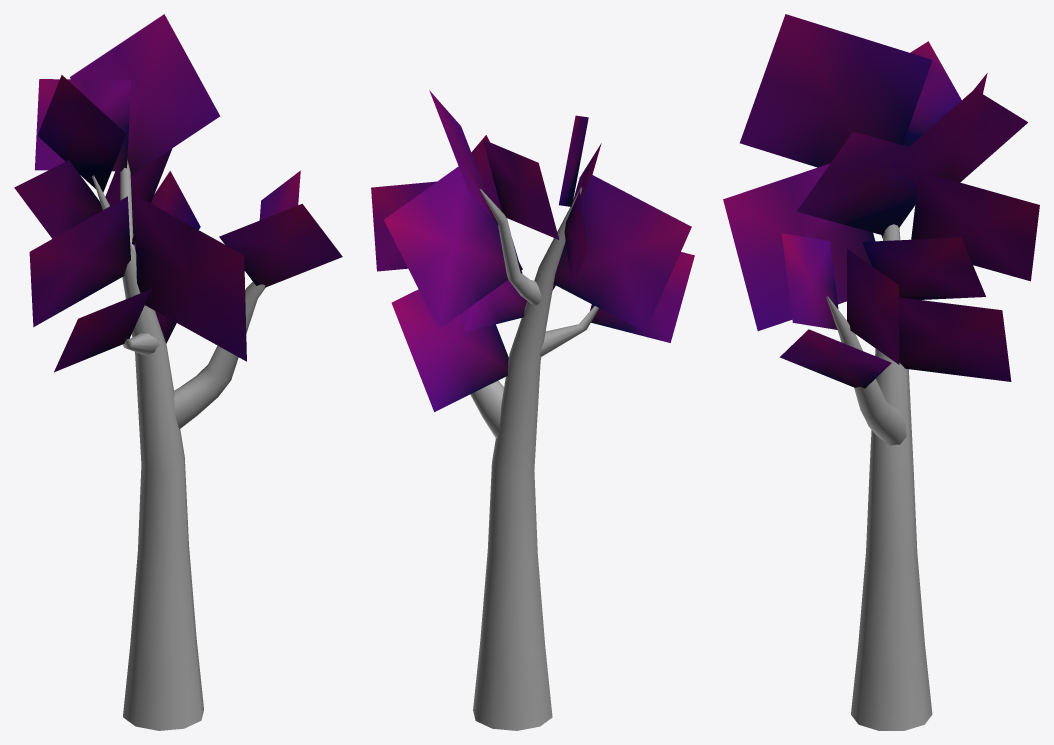
File: env_autumn_tree_tall.fbx
The picture shows the model from 3 angles, left to right: view 1: azimuth 30°, elevation 25°; view 2: azimuth 150°, elevation 25°; view 3: azimuth 270°, elevation 25°; orthographic projection. The views are drawn at different scales.
Parts seen in each view (by area): view 1: env_autumn_leaf_tall_geo, env_autumn_tree_tall_geo; view 2: env_autumn_leaf_tall_geo, env_autumn_tree_tall_geo; view 3: env_autumn_leaf_tall_geo, env_autumn_tree_tall_geo.
Boxes of the visible parts, x1,y1,x2,y2 form: env_autumn_leaf_tall_geo: (14, 14, 342, 372); env_autumn_tree_tall_geo: (92, 160, 265, 730); env_autumn_leaf_tall_geo: (371, 90, 694, 411); env_autumn_tree_tall_geo: (470, 187, 599, 730); env_autumn_leaf_tall_geo: (723, 14, 1039, 388); env_autumn_tree_tall_geo: (826, 224, 932, 730).
Size of the model in its own units: 368 by 808 by 343.
